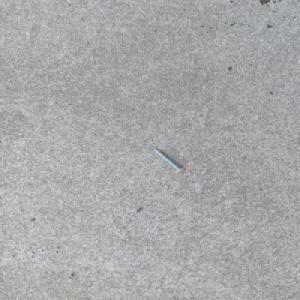Screw: (153, 148, 185, 172)
